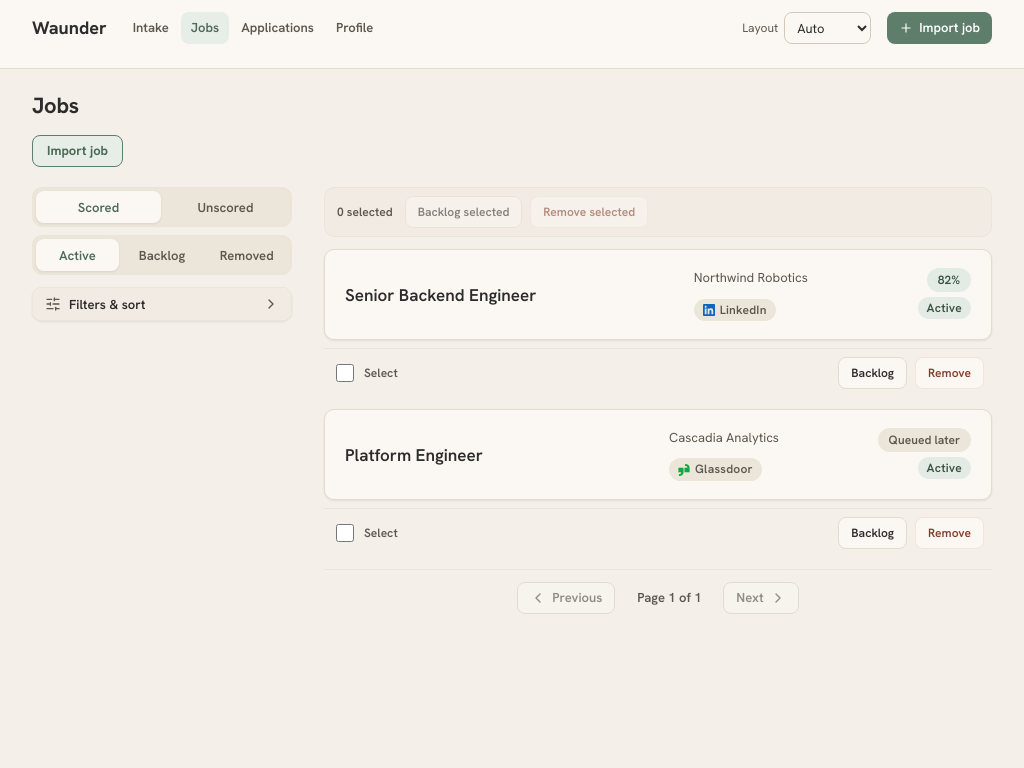
Test case: lifecycle writes › reports a failed write once, shared by the row and bulk controls, and does not retry
The image size is (1024, 768).
expect the list with class "job-list-items" is shown: met, box [324, 250, 992, 549]
Click the button "Remove" below "Northwind Robotics": {"x": 950, "y": 373} [915, 357, 984, 389]
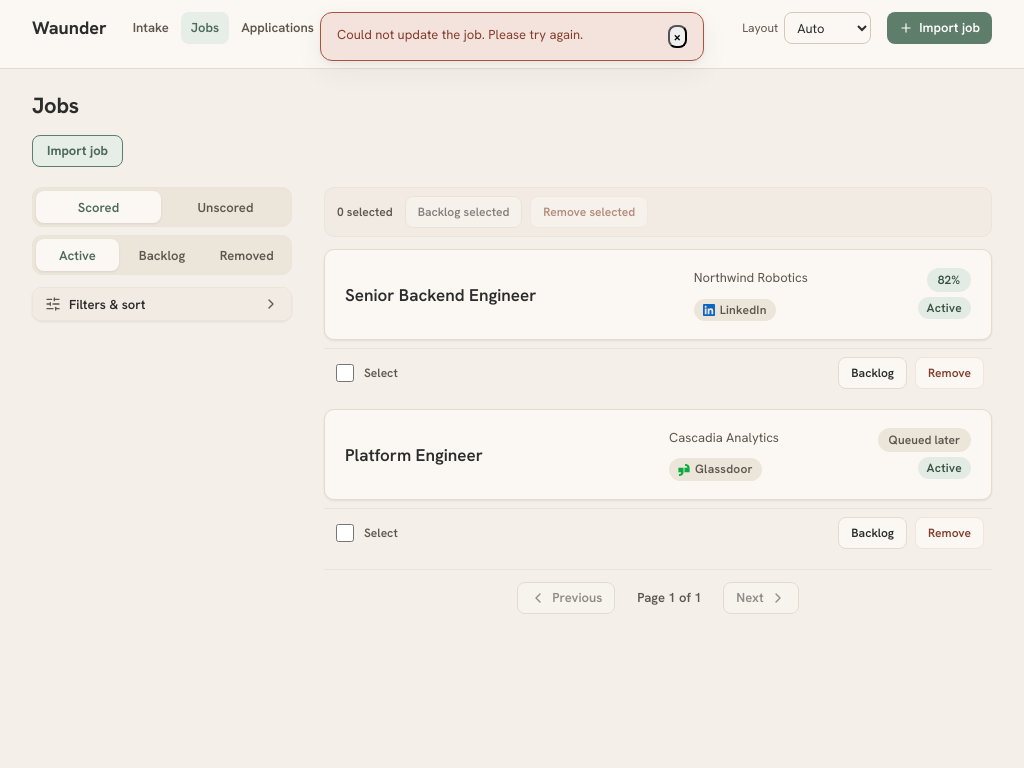
expect the element with class "toast" shows "Could not update the job. Please try again.": met, box [337, 26, 583, 43]
